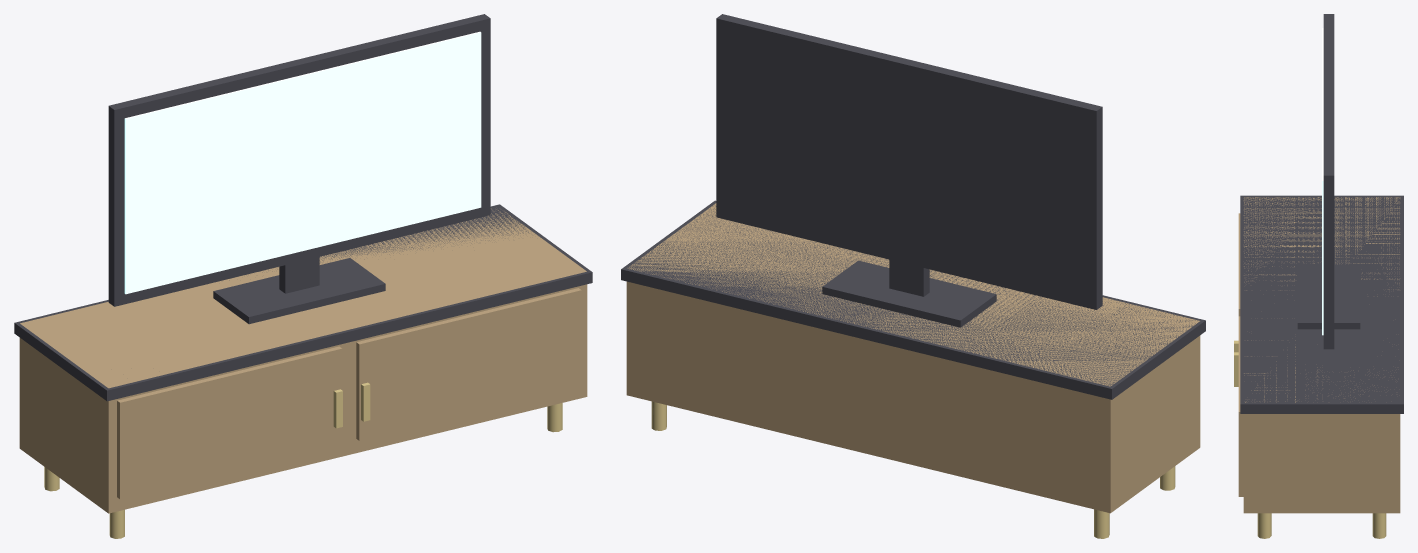
Rendered from bb_set_tvconsole.fbx.
3 views of the same model, side by side, from view 1: azimuth 30°, elevation 25°; view 2: azimuth 150°, elevation 25°; view 3: azimuth 270°, elevation 25° (orthographic). The views are drawn at different scales.
Visible parts, largest first — view 1: bb_set_tvconsole; view 2: bb_set_tvconsole; view 3: bb_set_tvconsole.
Part boxes in pixels (bbox=[...]): bb_set_tvconsole: bbox=[14, 14, 592, 538]; bb_set_tvconsole: bbox=[621, 14, 1205, 538]; bb_set_tvconsole: bbox=[1234, 14, 1403, 538].
Bounding box in the file's own units: 1.42 × 1.1 × 0.4875.
